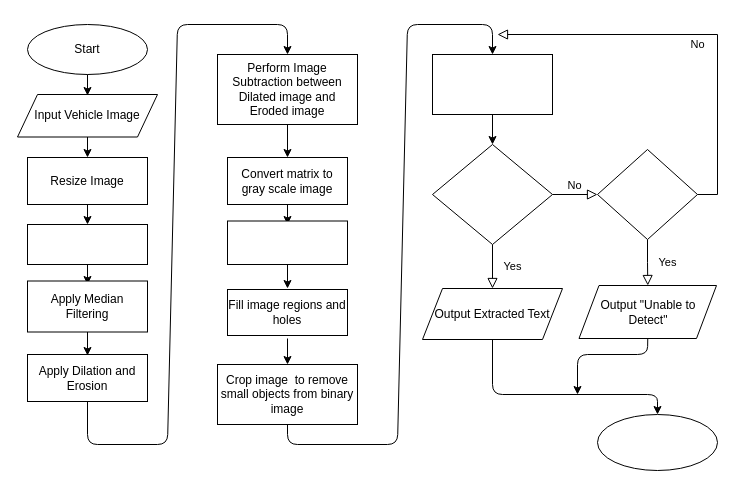
The diagram is 745 pixels wide and 488 high, and some of its shapes have lost their labels. The box of each missing label's shape, as (x1, y1, x2, y2) in pixels:
Apply 2D convolution: (226, 220, 348, 264)
Compare with the existing character database: (432, 54, 552, 114)
Convert Image to Gray-Scale: (26, 224, 148, 264)
End: (596, 414, 718, 470)
Is all characters checked?: (596, 148, 698, 240)
Is Vehicle Plate Matched?: (432, 144, 552, 244)
